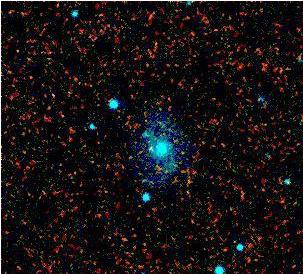star: (135, 134, 165, 164)
